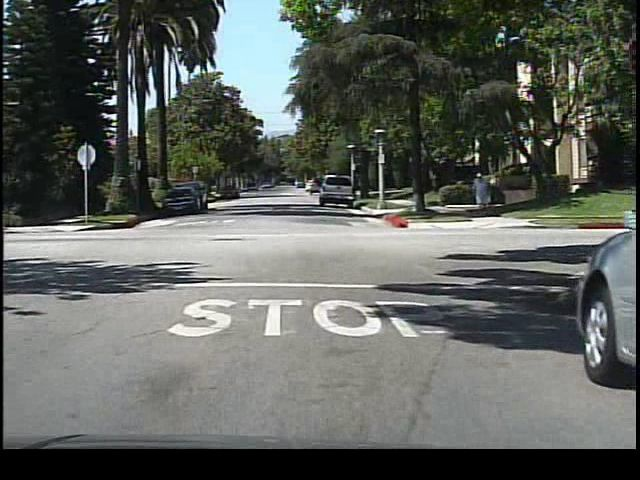person: (469, 167, 491, 216)
